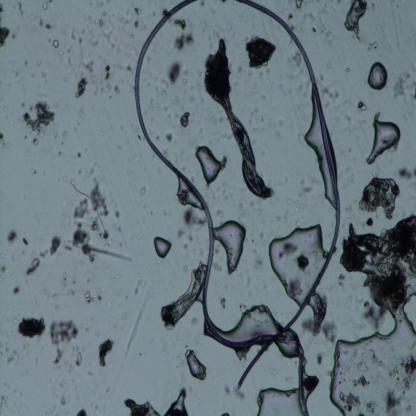Air bubble: (329, 308, 416, 414), (268, 224, 330, 306), (299, 117, 332, 205), (220, 303, 282, 336), (213, 217, 247, 277), (368, 114, 401, 163), (257, 386, 303, 416), (195, 142, 224, 184), (342, 0, 368, 37), (164, 386, 190, 416), (186, 347, 208, 381), (311, 293, 327, 335), (367, 60, 388, 92), (342, 244, 362, 272), (154, 236, 172, 260), (177, 186, 195, 207)
Background material: (345, 218, 416, 312), (65, 179, 132, 264), (365, 233, 416, 305), (359, 174, 402, 218), (22, 99, 58, 145), (80, 6, 115, 49), (0, 329, 31, 370), (304, 7, 336, 45), (246, 34, 277, 70), (391, 349, 416, 393), (84, 54, 113, 91), (171, 16, 196, 52), (60, 27, 82, 65), (335, 386, 362, 416), (358, 299, 381, 332), (48, 376, 70, 410), (48, 318, 78, 342), (18, 314, 46, 339), (122, 397, 160, 415), (352, 359, 372, 393), (320, 76, 341, 108), (233, 198, 264, 218), (250, 243, 269, 274), (183, 206, 206, 231), (320, 316, 340, 344), (384, 393, 408, 416), (28, 11, 56, 30), (153, 85, 173, 111), (393, 70, 410, 99), (63, 270, 79, 300), (98, 336, 113, 368), (368, 346, 388, 368), (297, 252, 315, 276), (178, 226, 194, 252), (168, 61, 182, 87), (75, 75, 87, 101), (230, 384, 246, 402), (210, 254, 226, 272), (0, 126, 12, 150), (357, 39, 378, 52), (0, 21, 10, 48), (25, 258, 40, 276), (284, 8, 296, 30), (314, 348, 326, 370), (363, 399, 378, 416), (132, 7, 143, 30), (49, 236, 62, 255), (297, 178, 311, 195), (120, 58, 133, 76), (180, 109, 191, 130), (397, 168, 416, 180), (133, 278, 145, 296), (53, 347, 65, 364), (85, 289, 97, 305), (38, 67, 48, 86), (289, 54, 302, 68), (162, 129, 173, 144), (54, 146, 65, 161), (217, 293, 226, 311), (7, 230, 17, 244), (189, 314, 201, 325), (75, 107, 86, 119), (212, 207, 224, 218), (72, 149, 84, 160), (356, 100, 367, 112), (17, 0, 25, 16), (39, 1, 50, 12), (26, 165, 37, 176), (75, 350, 83, 365), (363, 215, 373, 227), (0, 261, 7, 278), (111, 82, 119, 96), (338, 273, 346, 287), (139, 185, 149, 196), (104, 297, 114, 308), (102, 384, 112, 394), (296, 0, 306, 10), (121, 311, 130, 322), (76, 406, 87, 415), (21, 56, 28, 70), (96, 290, 104, 302), (38, 250, 50, 258), (11, 285, 20, 295), (224, 383, 232, 394), (52, 39, 59, 50), (21, 236, 29, 245), (0, 396, 5, 410), (112, 275, 120, 282), (42, 411, 53, 416), (0, 2, 4, 15), (220, 412, 231, 416), (182, 265, 188, 272), (218, 0, 228, 4), (346, 68, 352, 74), (137, 134, 142, 141), (327, 62, 332, 68), (98, 130, 102, 136)
Cellulose filter fibre: (201, 42, 274, 198), (162, 264, 207, 329)
Microfibre: (134, 0, 288, 350), (235, 0, 340, 387)
